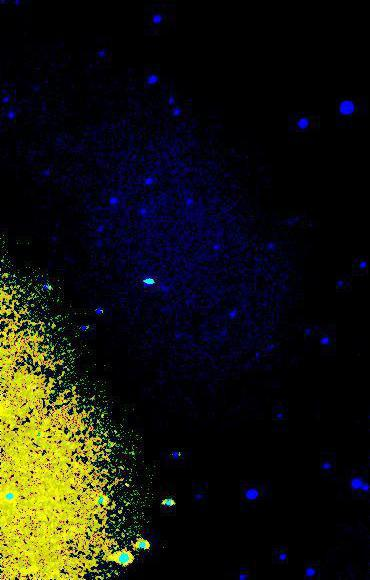star: (108, 464, 138, 494)
